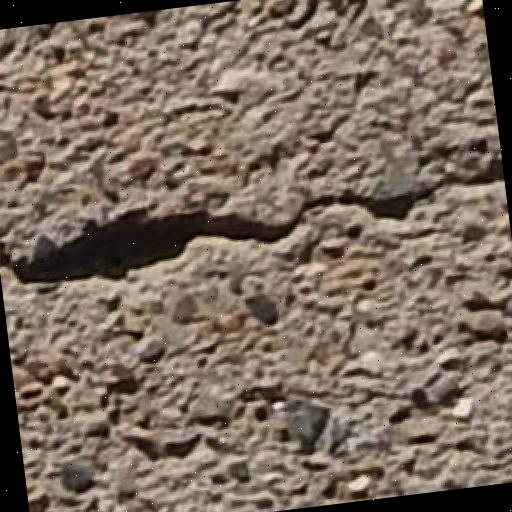spalling: (0, 156, 502, 300)
